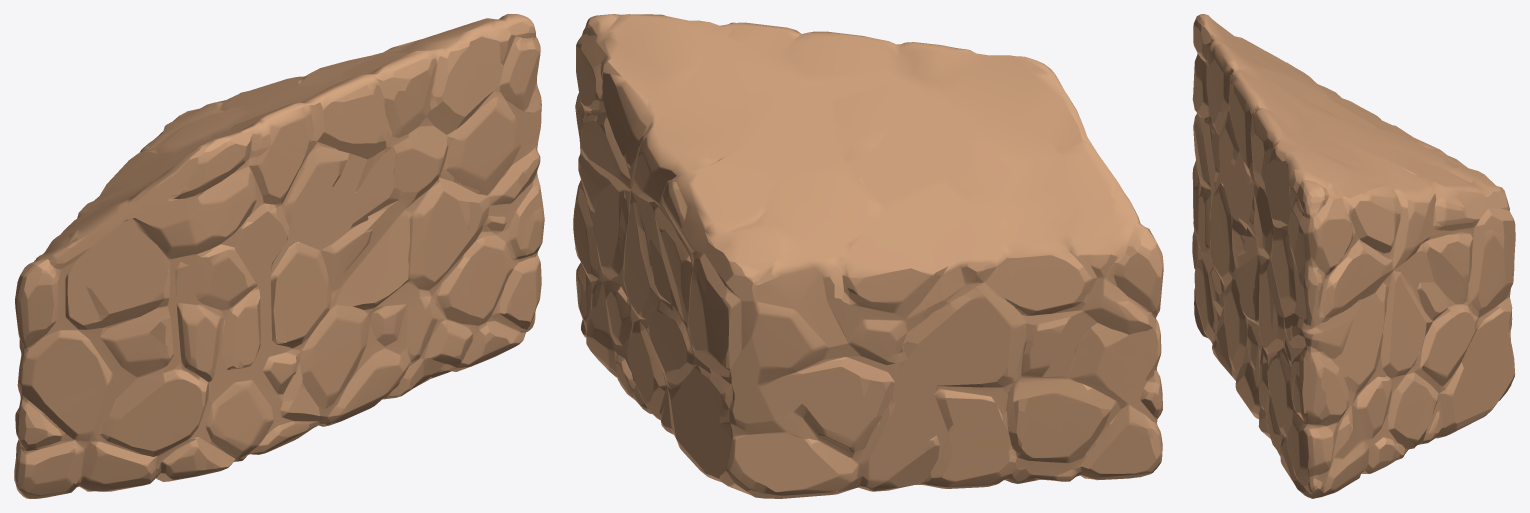
3 renders of one model, left to right at view 1: azimuth 30°, elevation 25°; view 2: azimuth 150°, elevation 25°; view 3: azimuth 270°, elevation 25°, orthographic. The views are drawn at different scales.
Visible parts, largest first — view 1: Mesh_76_LOD0; view 2: Mesh_76_LOD0; view 3: Mesh_76_LOD0.
Part boxes in pixels (x1,y1,x2,y2): Mesh_76_LOD0: [14, 14, 544, 498]; Mesh_76_LOD0: [573, 14, 1163, 498]; Mesh_76_LOD0: [1192, 14, 1515, 498].
Size of what is drawn, in the model's own units: 6782 by 4157 by 3652.
